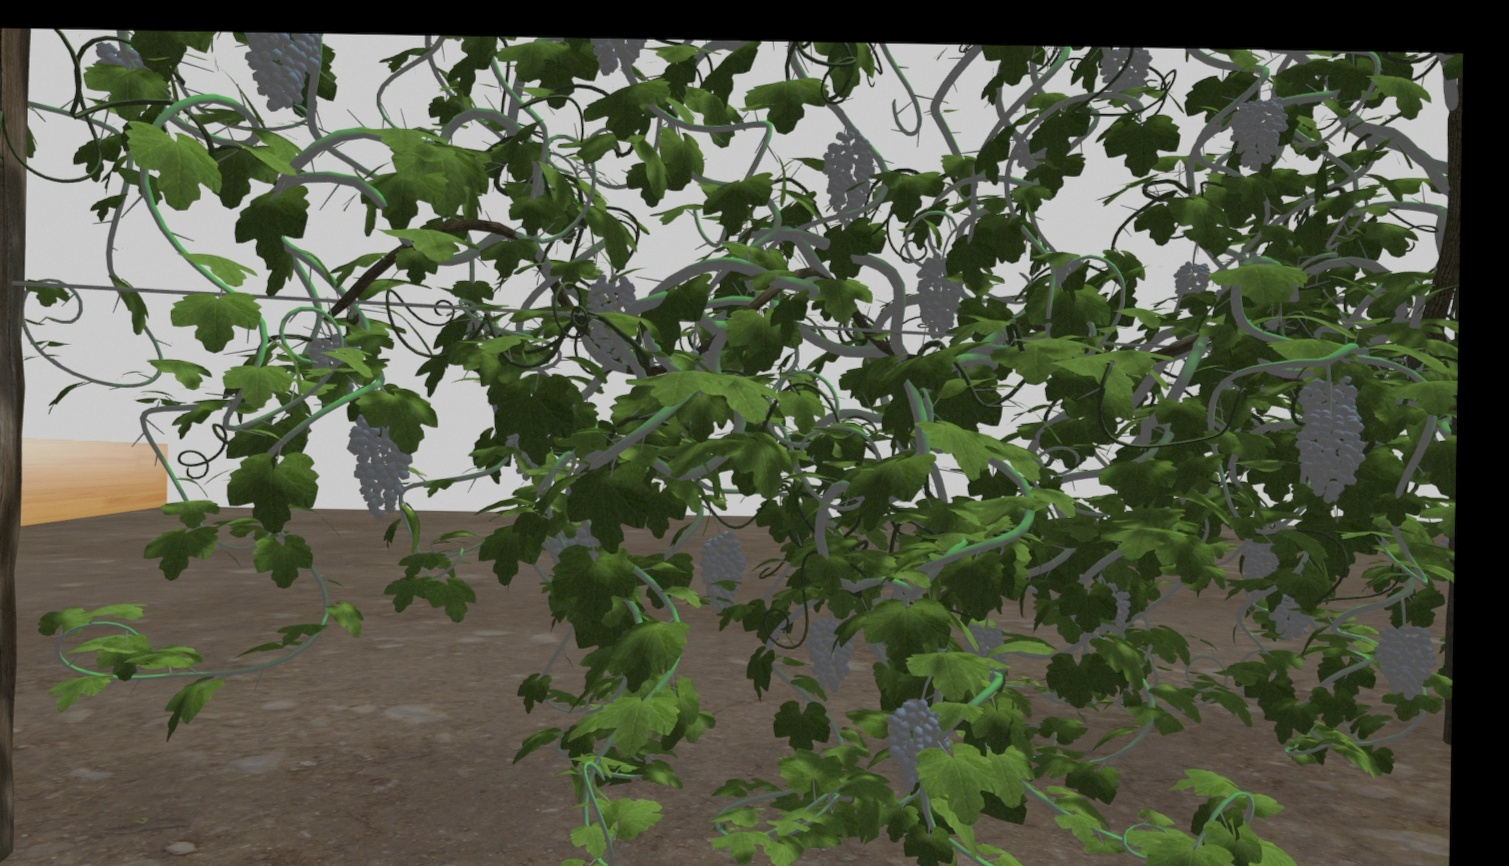grape: (346, 416, 412, 518), (241, 37, 321, 114), (1298, 411, 1360, 506), (819, 127, 876, 228), (886, 696, 942, 795), (1373, 622, 1437, 703), (585, 273, 639, 360), (802, 606, 856, 694), (1228, 96, 1288, 173), (914, 253, 962, 340), (697, 530, 745, 604), (1099, 50, 1152, 107), (1296, 374, 1357, 418), (1236, 535, 1278, 598), (1172, 259, 1211, 301), (1271, 599, 1308, 641)
